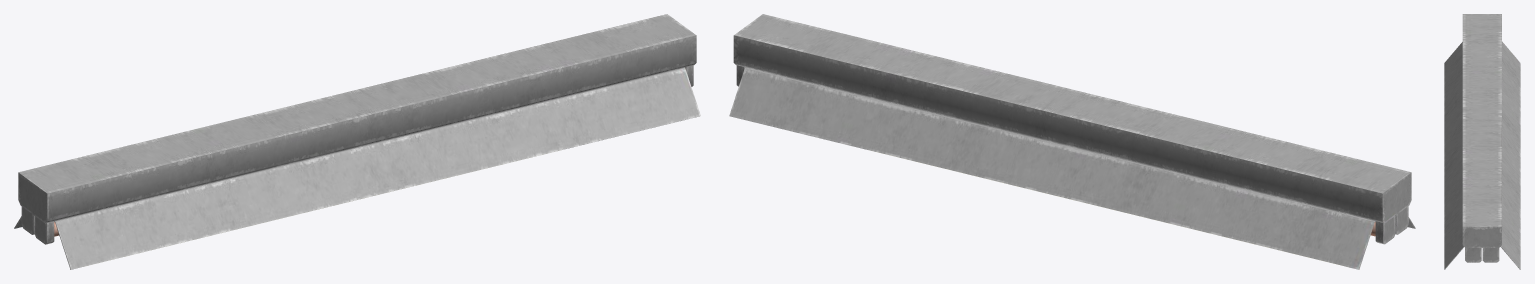
Rendered from SM_Light_Tube_02.glb.
3 renders of one model, left to right at view 1: azimuth 30°, elevation 25°; view 2: azimuth 150°, elevation 25°; view 3: azimuth 270°, elevation 25°, orthographic. The views are drawn at different scales.
Visible parts, largest first — view 1: SM_Light_Tube_02; view 2: SM_Light_Tube_02; view 3: SM_Light_Tube_02.
Part boxes in pixels (x1,y1,x2,y2): SM_Light_Tube_02: (14,14,700,269); SM_Light_Tube_02: (729,14,1415,269); SM_Light_Tube_02: (1444,14,1520,269).
Size of the model in its own units: 1.25 by 0.1271 by 0.1902.
Materials: 1 (1 with a texture image).
